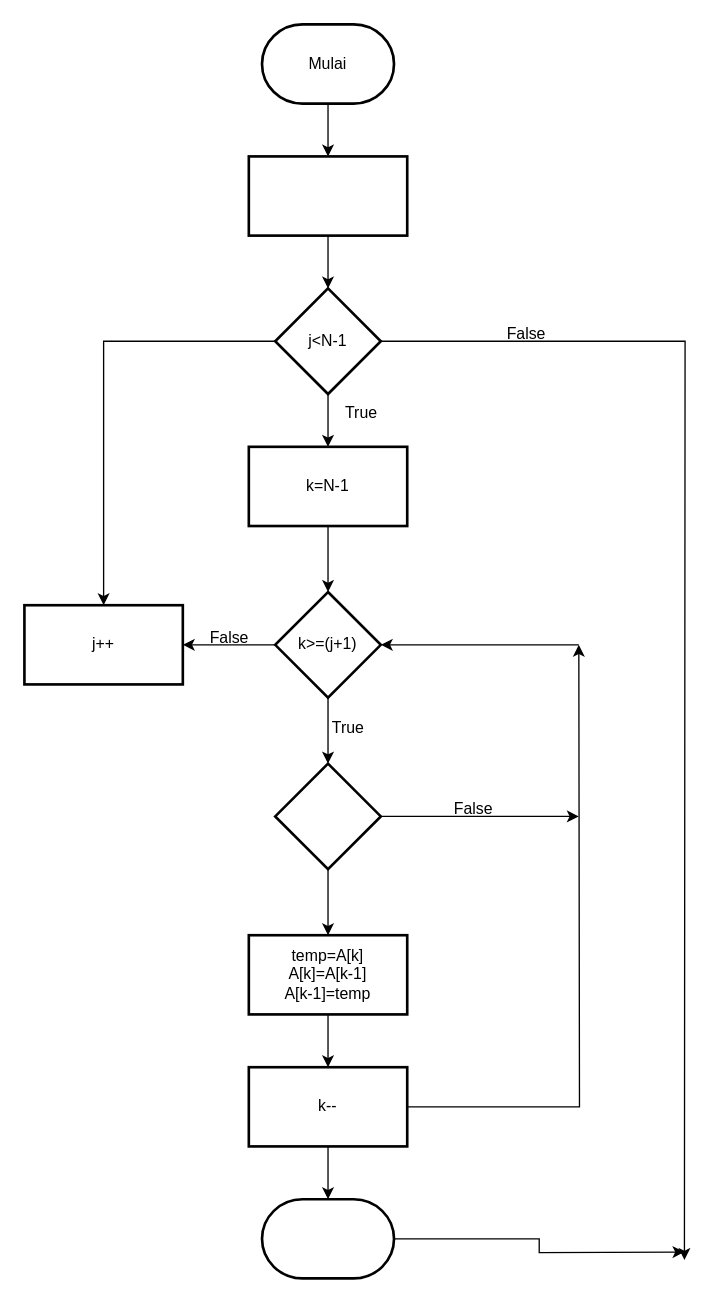
The diagram is 718 pixels wide and 1302 high, and some of its shapes have lost their labels. The centre of each missing label's shape, as x and y in pixels:
"A[k]<A[k-1]" belongs at pixel 327 816.
"End" belongs at pixel 327 1238.
"int N, j=0,k, temp A [100]" belongs at pixel 327 195.
